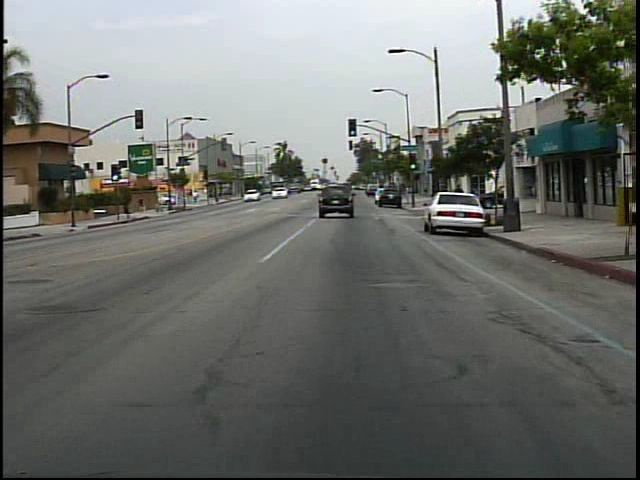person: (448, 179, 469, 217), (134, 191, 153, 220), (192, 188, 201, 207)
